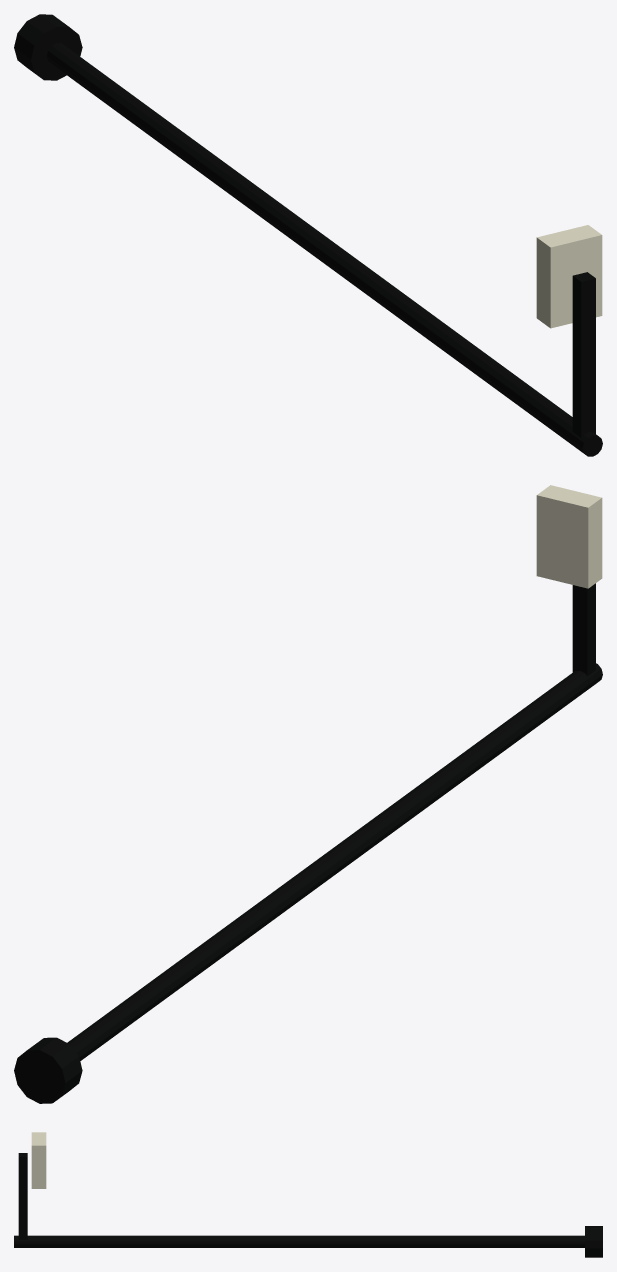
Rendered from lamp_post.obj.
The picture shows the model from 3 angles, top to bottom: view 1: azimuth 30°, elevation 25°; view 2: azimuth 150°, elevation 25°; view 3: azimuth 270°, elevation 25°; orthographic projection. The views are drawn at different scales.
Visible parts, largest first — view 1: lamp_post; view 2: lamp_post; view 3: lamp_post.
Boxes of the visible parts, box(x1,y1,x2,y2) form: lamp_post: box(14, 14, 602, 456); lamp_post: box(14, 485, 602, 1103); lamp_post: box(14, 1132, 602, 1257).
Bounding box in the file's own units: 0.28 × 1.14 × 5.2.
